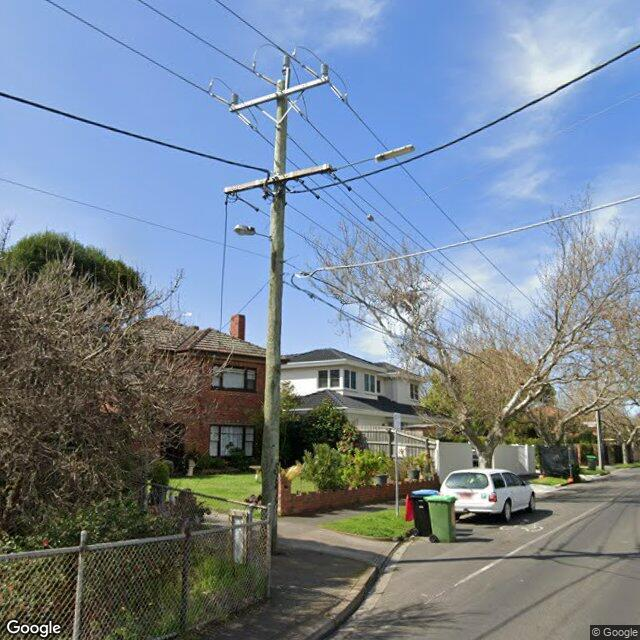HV-transmission: (207, 43, 349, 132)
crossarm: (228, 77, 331, 113), (224, 164, 332, 194)
streetlight: (331, 144, 416, 172), (233, 223, 272, 240)
timber-pole: (261, 79, 288, 553), (594, 380, 603, 471)
